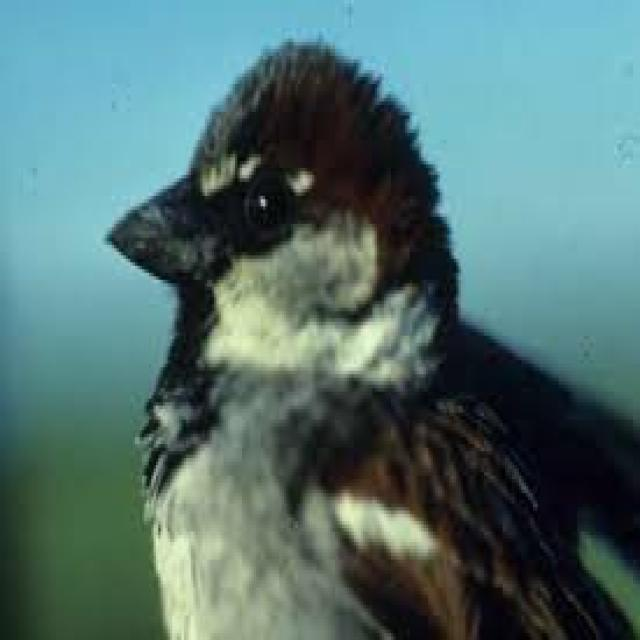Sparrow: (113, 29, 590, 640)
